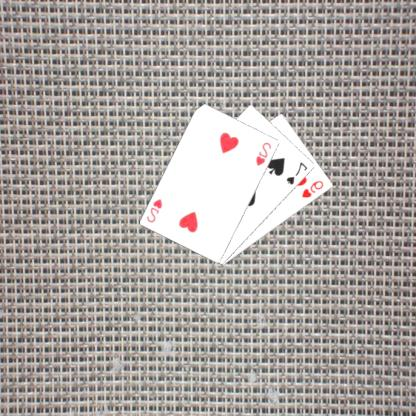2H: (146, 196, 166, 224), (255, 140, 274, 168)
7S: (286, 160, 311, 186)
9H: (301, 178, 327, 199)
